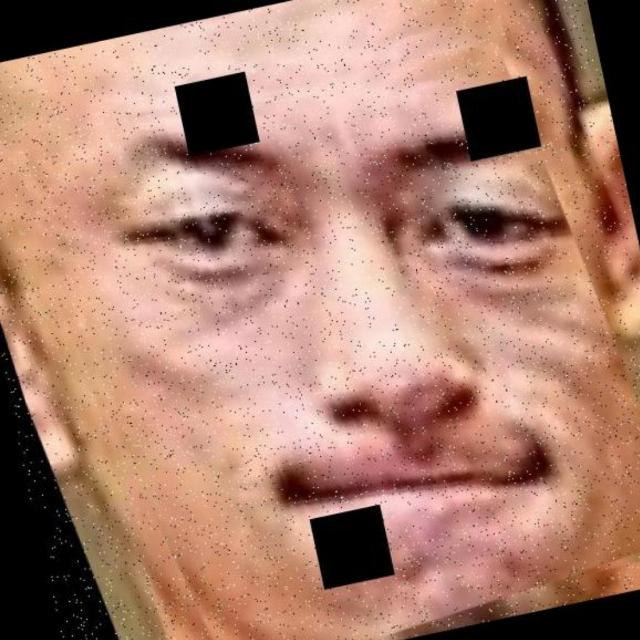Sad: (62, 79, 639, 640)
